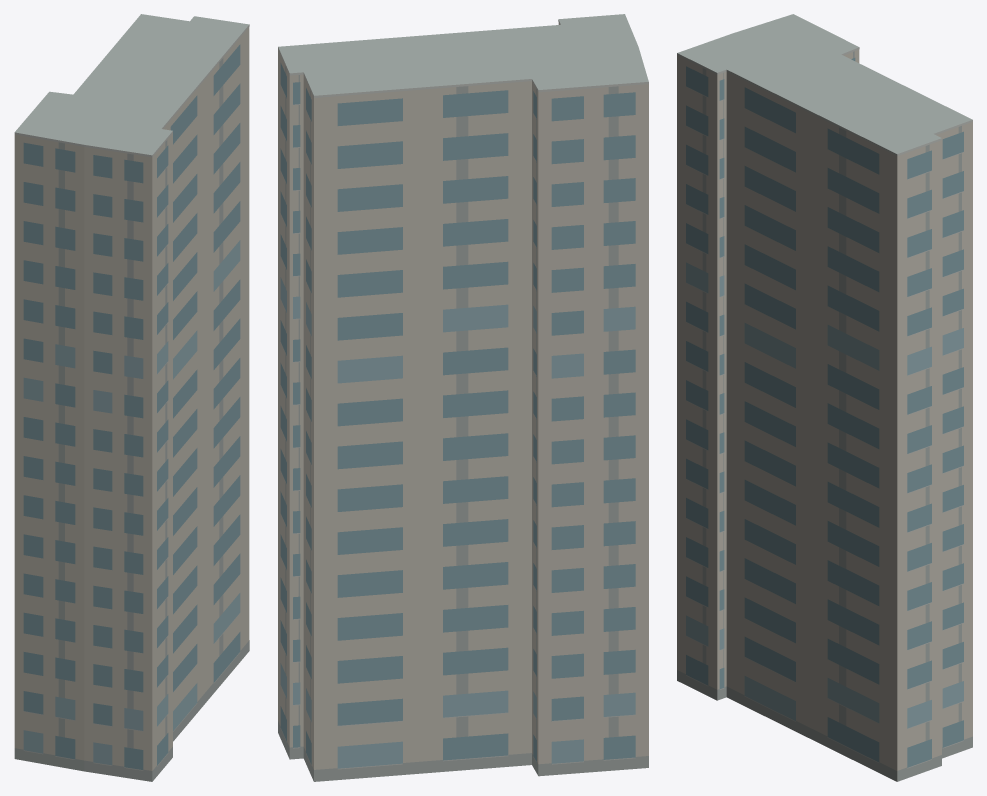
File: residential-0be9528b-844e-463a-b7b2-2f5a6410b33a.glb
3 views of the same model, side by side, from view 1: azimuth 30°, elevation 25°; view 2: azimuth 150°, elevation 25°; view 3: azimuth 270°, elevation 25° (orthographic). The views are drawn at different scales.
Visible parts, largest first — view 1: residential-0be9528b-844e-463a-b7b2-2f5a6410b33a.tmp; view 2: residential-0be9528b-844e-463a-b7b2-2f5a6410b33a.tmp; view 3: residential-0be9528b-844e-463a-b7b2-2f5a6410b33a.tmp.
Boxes of the visible parts, box(x1,y1,x2,y2) form: residential-0be9528b-844e-463a-b7b2-2f5a6410b33a.tmp: box(14, 14, 249, 781); residential-0be9528b-844e-463a-b7b2-2f5a6410b33a.tmp: box(278, 14, 648, 781); residential-0be9528b-844e-463a-b7b2-2f5a6410b33a.tmp: box(677, 14, 972, 781).
Size of the model in its own units: 35.45 by 74 by 31.6.
